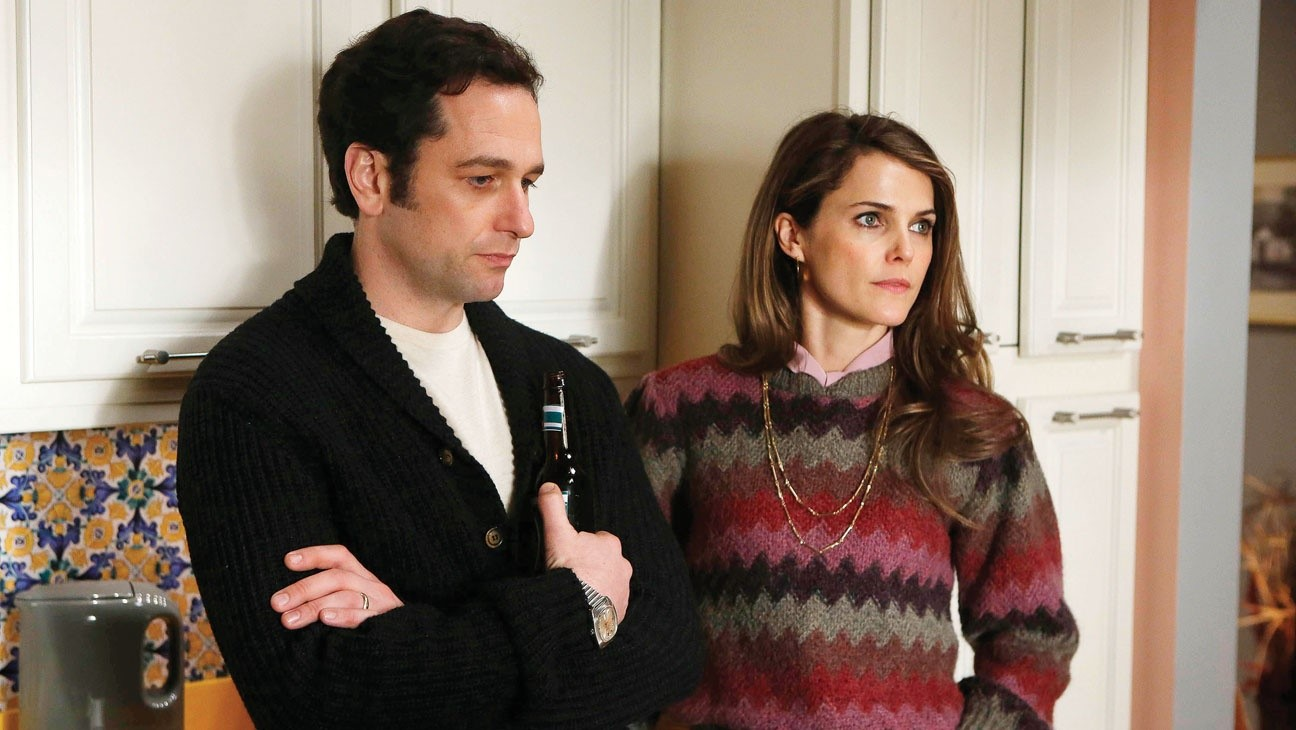face_no_mask: (317, 10, 543, 303), (754, 109, 946, 325)
